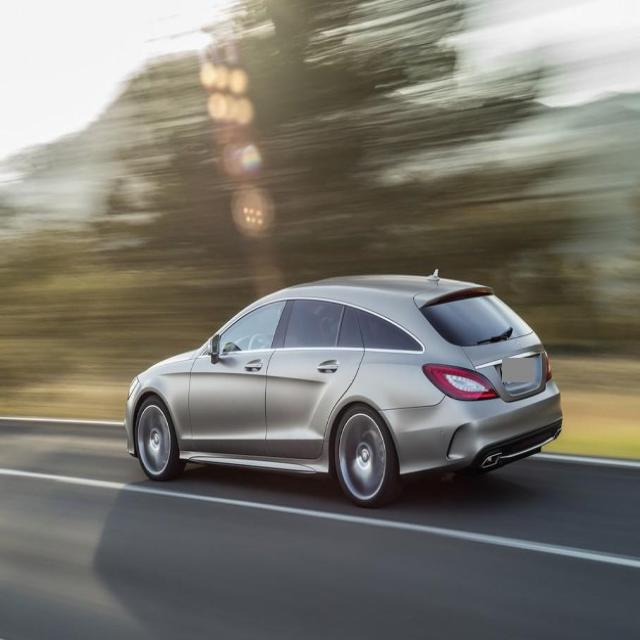back_glass: (419, 292, 534, 346)
back_left_side_light: (422, 362, 501, 401)
back_right_side_light: (539, 347, 553, 379)
door: (259, 304, 365, 454)
front_left_side_door: (190, 294, 288, 455)
front_left_side_mirror: (208, 332, 223, 362)
rear_bumper: (371, 379, 562, 478)
wheel: (333, 403, 394, 508), (134, 394, 176, 482)
